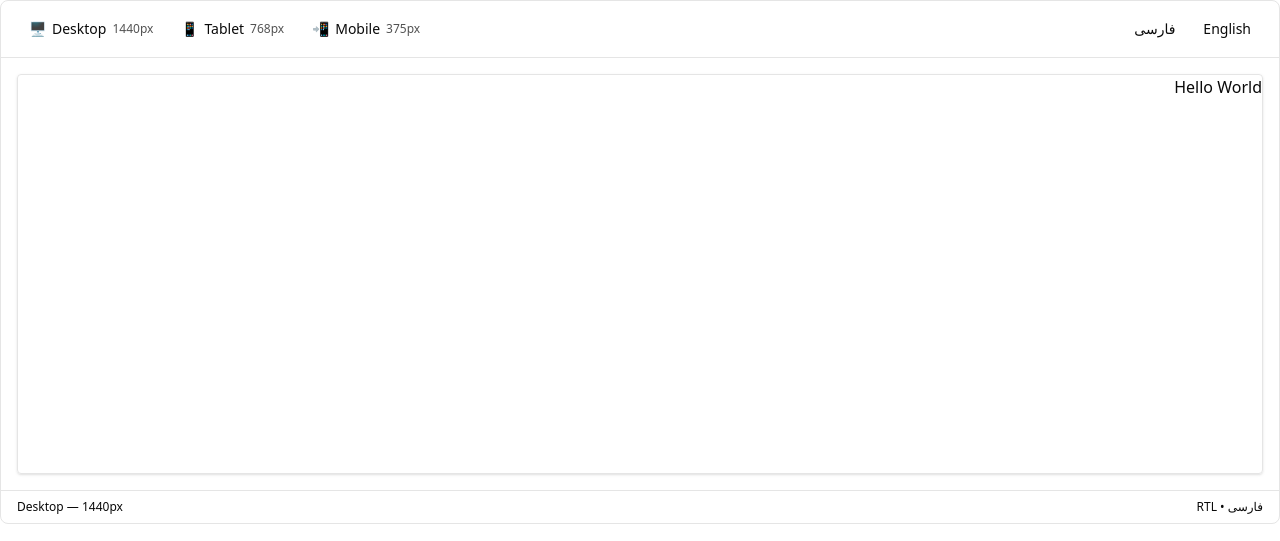
Test: PreviewPanel › switches to tablet width on tablet click
Step 1. Click the radio button labelled "📱 Tablet 768px" → x=233, y=29, box [169,13,296,45]
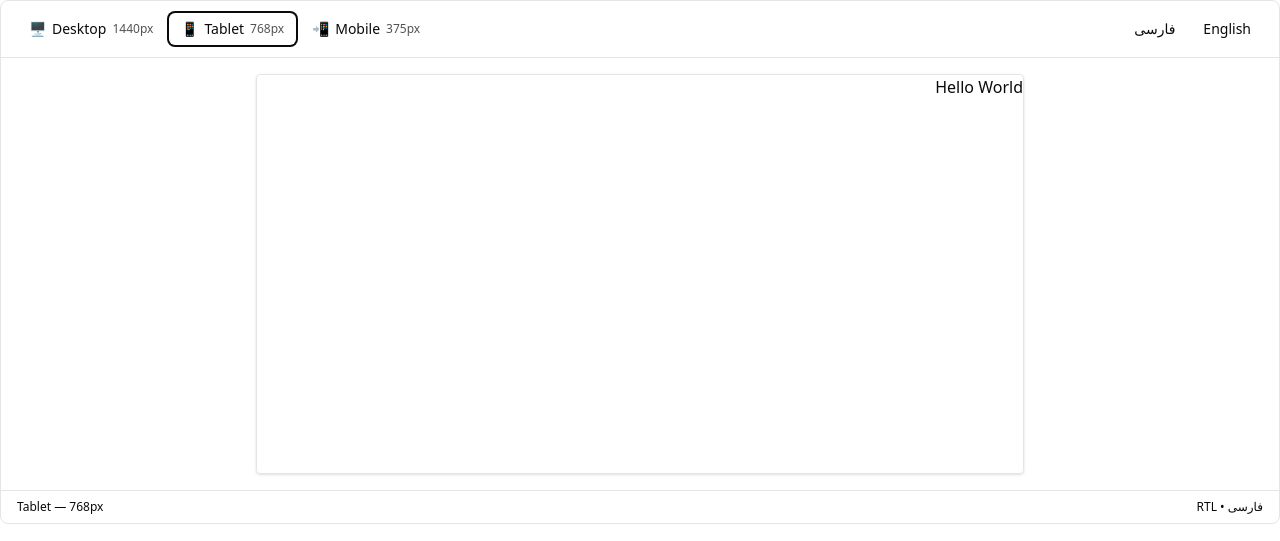
Expected: the text "Tablet — 768px" is shown, [17,499,103,515]
